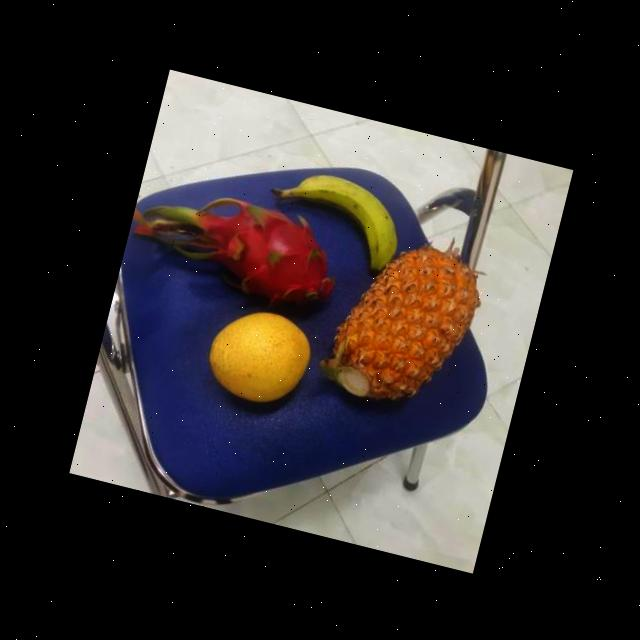banana: (274, 162, 411, 274)
pear: (197, 300, 321, 414)
pineapple: (317, 228, 490, 422)
pitaya: (182, 192, 354, 328)
